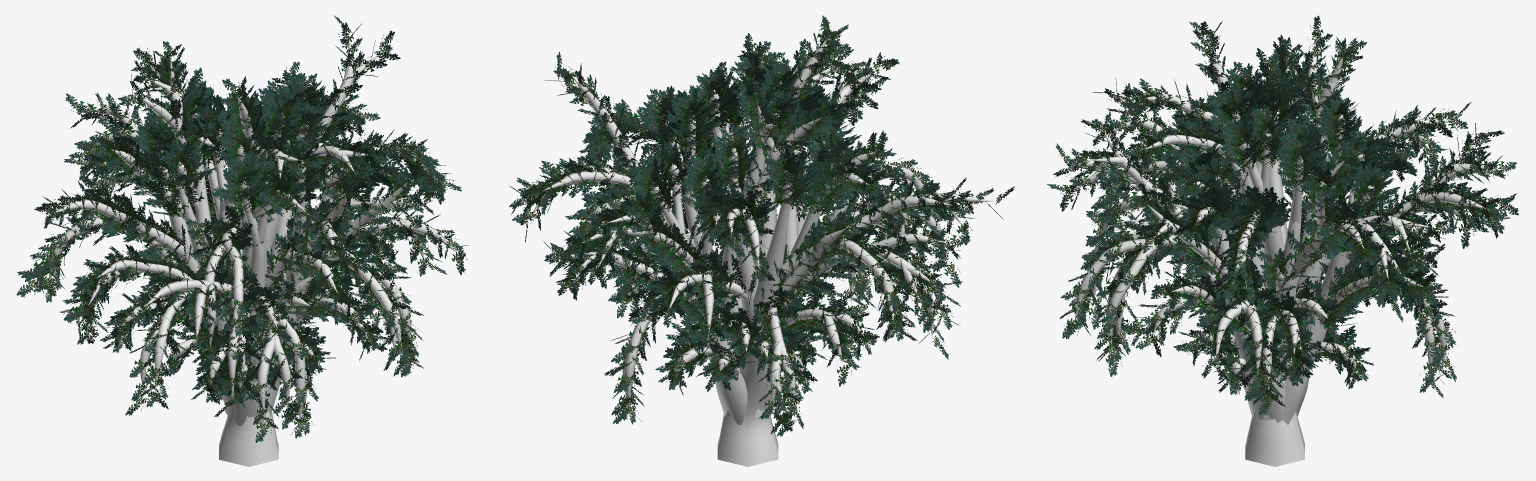
File: DetailedTreeSmall.fbx
The picture shows the model from 3 angles, left to right: view 1: azimuth 30°, elevation 25°; view 2: azimuth 150°, elevation 25°; view 3: azimuth 270°, elevation 25°; orthographic projection. The views are drawn at different scales.
Visible parts, largest first — view 1: LeavesSmall_LOD0, TreeSmall_LOD0; view 2: LeavesSmall_LOD0, TreeSmall_LOD0; view 3: LeavesSmall_LOD0, TreeSmall_LOD0.
Boxes of the visible parts, box(x1,y1,x2,y2) form: LeavesSmall_LOD0: box(16, 15, 468, 442); TreeSmall_LOD0: box(47, 33, 457, 466); LeavesSmall_LOD0: box(509, 15, 1014, 436); TreeSmall_LOD0: box(529, 38, 992, 466); LeavesSmall_LOD0: box(1047, 15, 1518, 415); TreeSmall_LOD0: box(1074, 36, 1498, 466).
Size of what is drawn, in the model's own units: 581 by 560 by 584.
